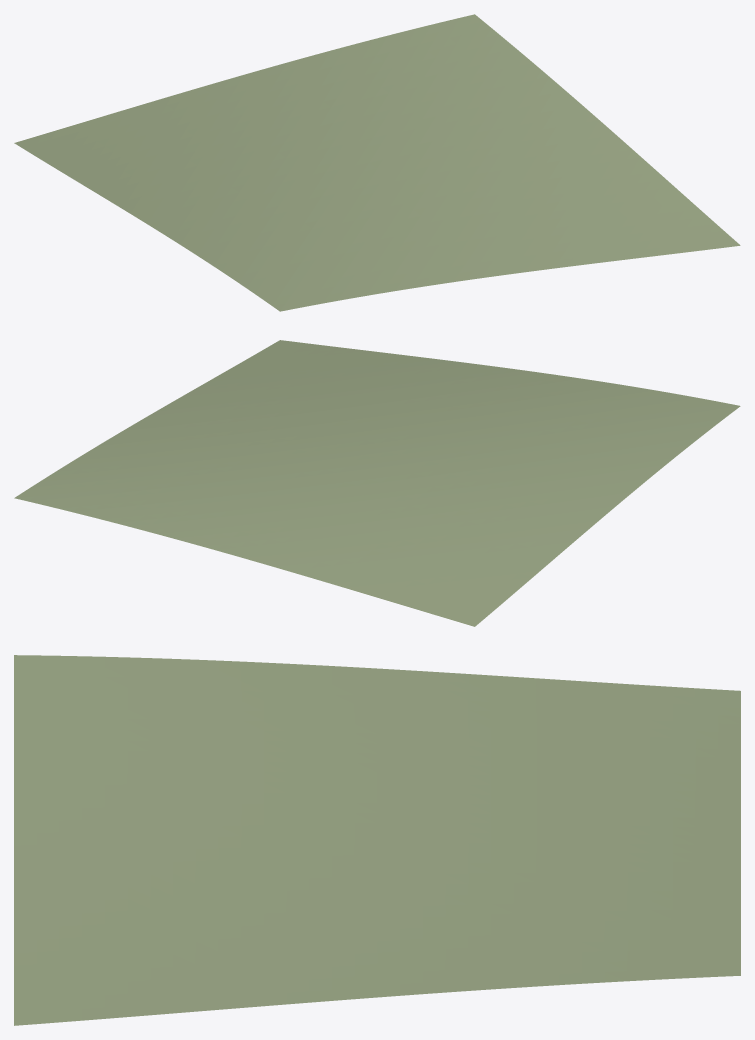
Rendered from alpine-7-13.glb.
The picture shows the model from 3 angles, top to bottom: view 1: azimuth 30°, elevation 25°; view 2: azimuth 150°, elevation 25°; view 3: azimuth 270°, elevation 25°; orthographic projection. The views are drawn at different scales.
Visible parts, largest first — view 1: alpine-7-13; view 2: alpine-7-13; view 3: alpine-7-13.
Boxes of the visible parts, x1,y1,x2,y2 form: alpine-7-13: (14, 14, 740, 311); alpine-7-13: (14, 340, 740, 626); alpine-7-13: (14, 655, 740, 1025).
Bounding box in the file's own units: 256 × 24.68 × 256.
